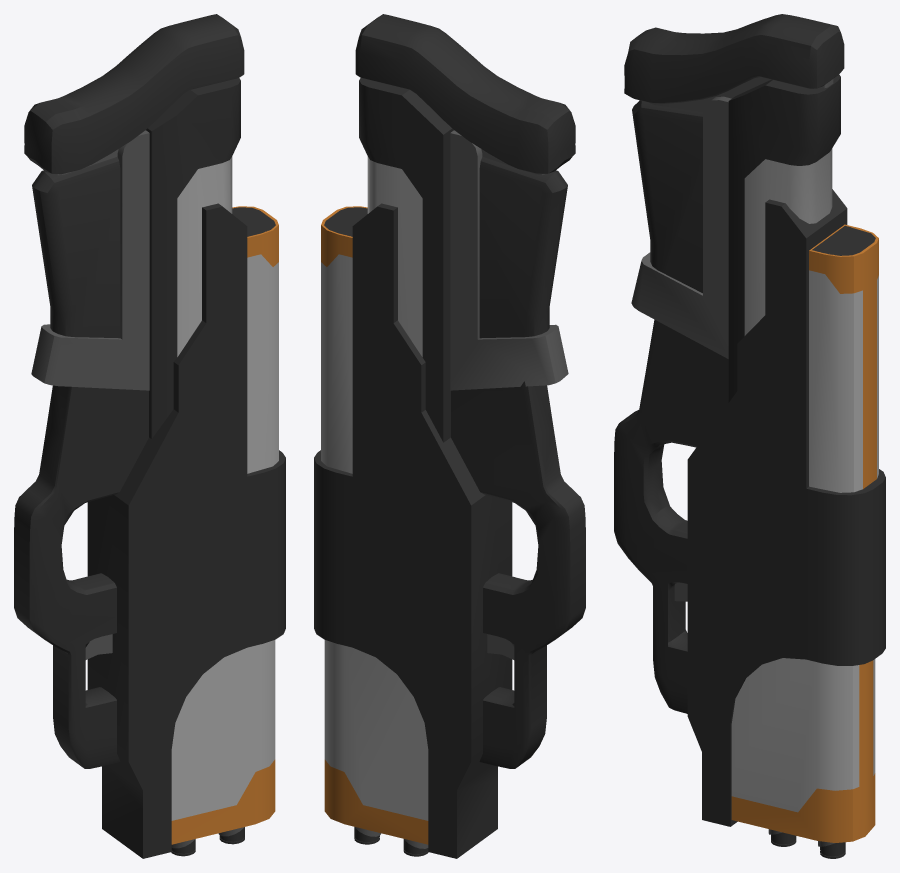
3 renders of one model, left to right at view 1: azimuth 30°, elevation 25°; view 2: azimuth 150°, elevation 25°; view 3: azimuth 330°, elevation 25°, orthographic.
Visible parts, largest first — view 1: WeaponMesh_qg-ar-2_AR_2; view 2: WeaponMesh_qg-ar-2_AR_2; view 3: WeaponMesh_qg-ar-2_AR_2.
Part boxes in pixels (x1,y1,x2,y2): WeaponMesh_qg-ar-2_AR_2: (14,14,285,858); WeaponMesh_qg-ar-2_AR_2: (314,14,585,858); WeaponMesh_qg-ar-2_AR_2: (614,14,885,858).
Size of the model in its own units: 0.4075 by 1.25 by 0.1135.
